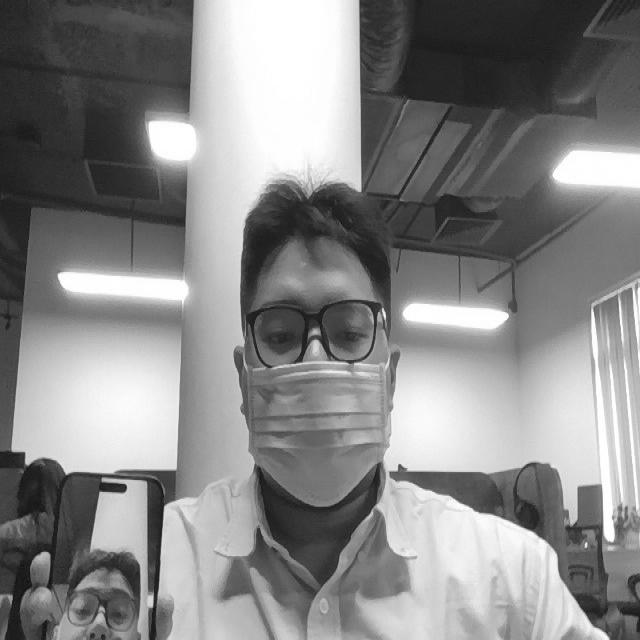fake: (33, 446, 205, 640), (237, 354, 392, 510), (56, 543, 143, 640)
real: (223, 164, 401, 540), (247, 284, 386, 363)
